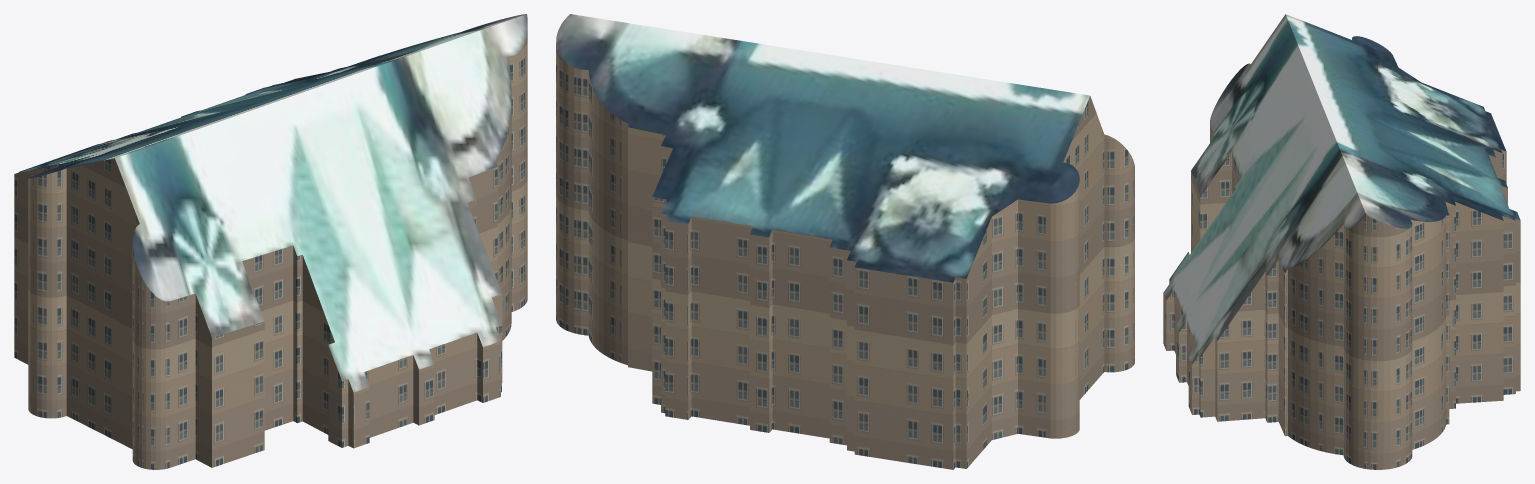
Rendered from Rheydt_Hauptkirche.glb.
3 renders of one model, left to right at view 1: azimuth 30°, elevation 25°; view 2: azimuth 150°, elevation 25°; view 3: azimuth 270°, elevation 25°, orthographic. The views are drawn at different scales.
Visible parts, largest first — view 1: Rheydt_Hauptkirche; view 2: Rheydt_Hauptkirche; view 3: Rheydt_Hauptkirche.
Part boxes in pixels (x1,y1,x2,y2): Rheydt_Hauptkirche: [14, 14, 527, 469]; Rheydt_Hauptkirche: [556, 14, 1134, 469]; Rheydt_Hauptkirche: [1163, 14, 1520, 469].
Bounding box in the file's own units: 45.06 × 24.58 × 31.33.
2 materials, 2 textured.
